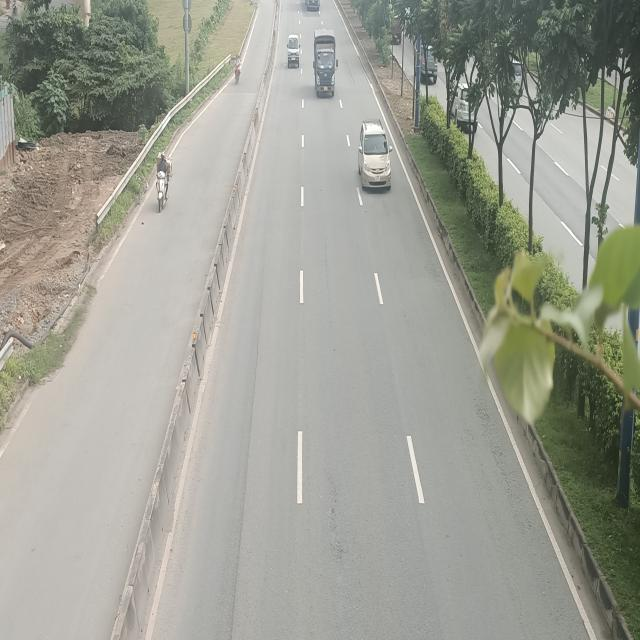car: (357, 120, 392, 188)
truck: (312, 31, 337, 100)
van: (286, 36, 300, 70)
